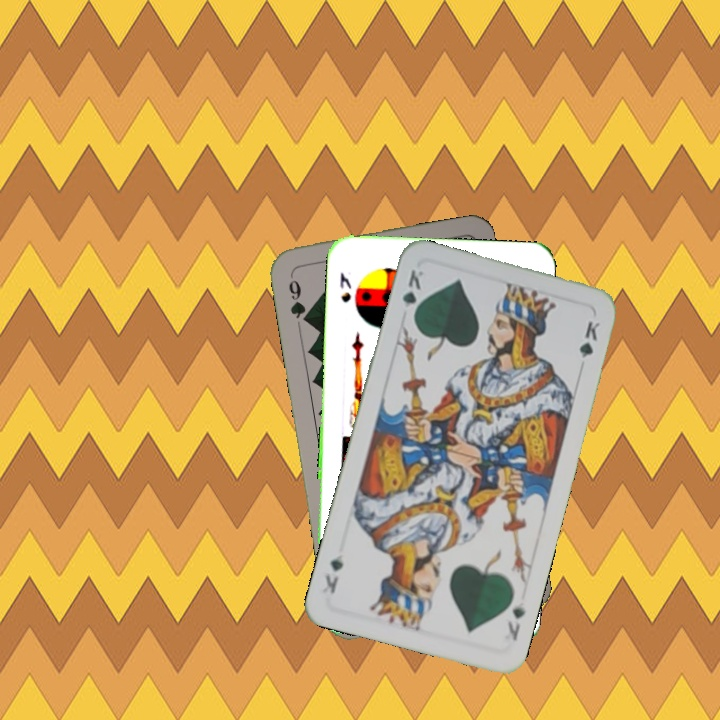G9: (284, 269, 312, 326)
GK: (398, 266, 426, 323), (503, 603, 528, 643)
SK: (336, 268, 354, 305)
